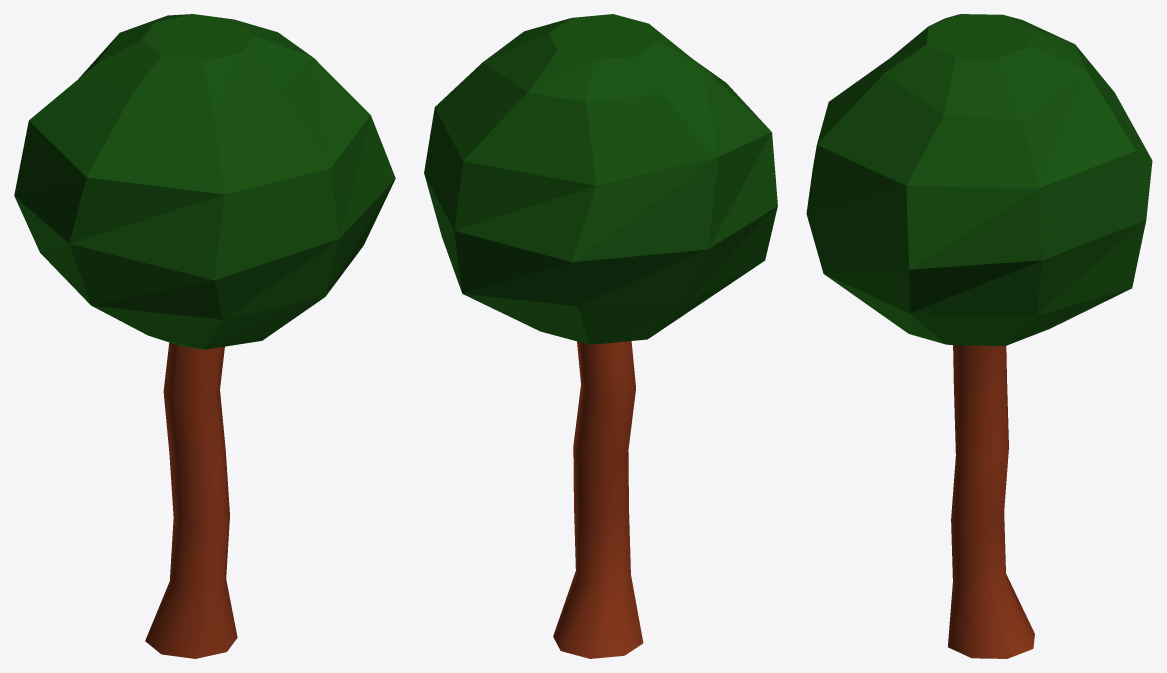
File: Arbre_v1.FBX
3 renders of one model, left to right at view 1: azimuth 30°, elevation 25°; view 2: azimuth 150°, elevation 25°; view 3: azimuth 270°, elevation 25°, orthographic.
Parts seen in each view (by area): view 1: Arbre037; view 2: Arbre037; view 3: Arbre037.
Boxes of the visible parts, bbox=[...] form: Arbre037: bbox=[14, 14, 395, 658]; Arbre037: bbox=[424, 14, 777, 658]; Arbre037: bbox=[806, 14, 1152, 658].
Size of the model in its own units: 94.38 by 173 by 89.91.
